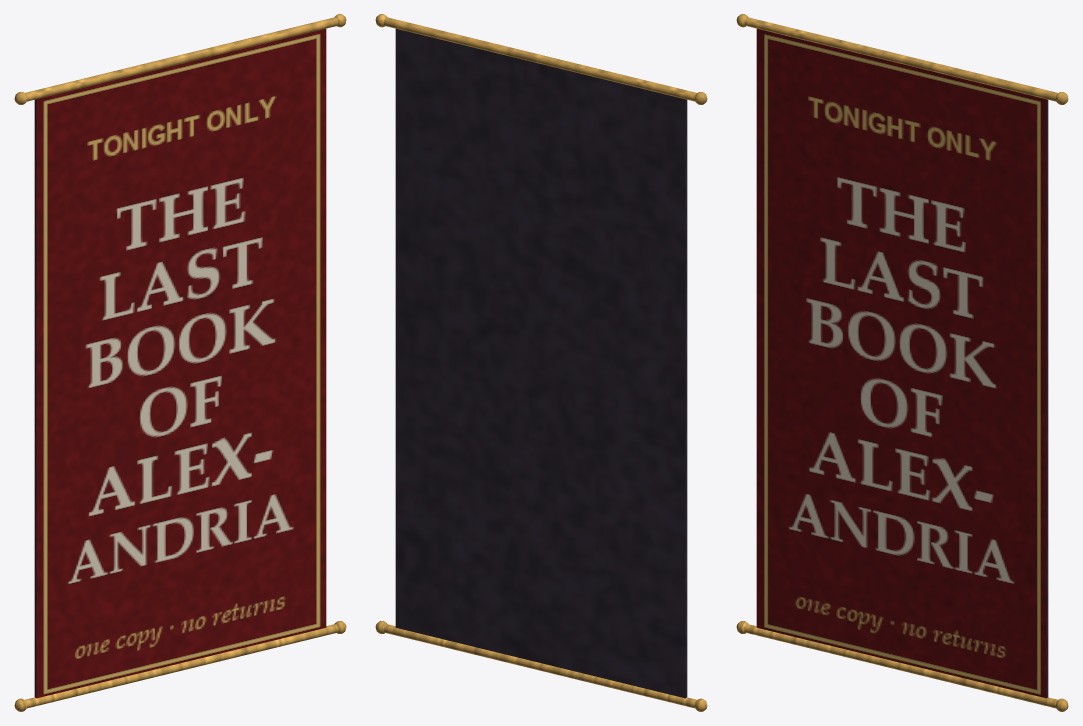
File: banner_book.gltf
3 renders of one model, left to right at view 1: azimuth 30°, elevation 25°; view 2: azimuth 150°, elevation 25°; view 3: azimuth 330°, elevation 25°, orthographic.
Parts seen in each view (by area): view 1: BannerBook; view 2: BannerBook; view 3: BannerBook.
Boxes of the visible parts, left/top/right/bottom form: BannerBook: left=14, top=14, right=346, bottom=711; BannerBook: left=375, top=14, right=707, bottom=711; BannerBook: left=736, top=14, right=1068, bottom=711.
Size of the model in its own units: 1.37 by 2.45 by 0.048.
2 materials, 2 textured.
